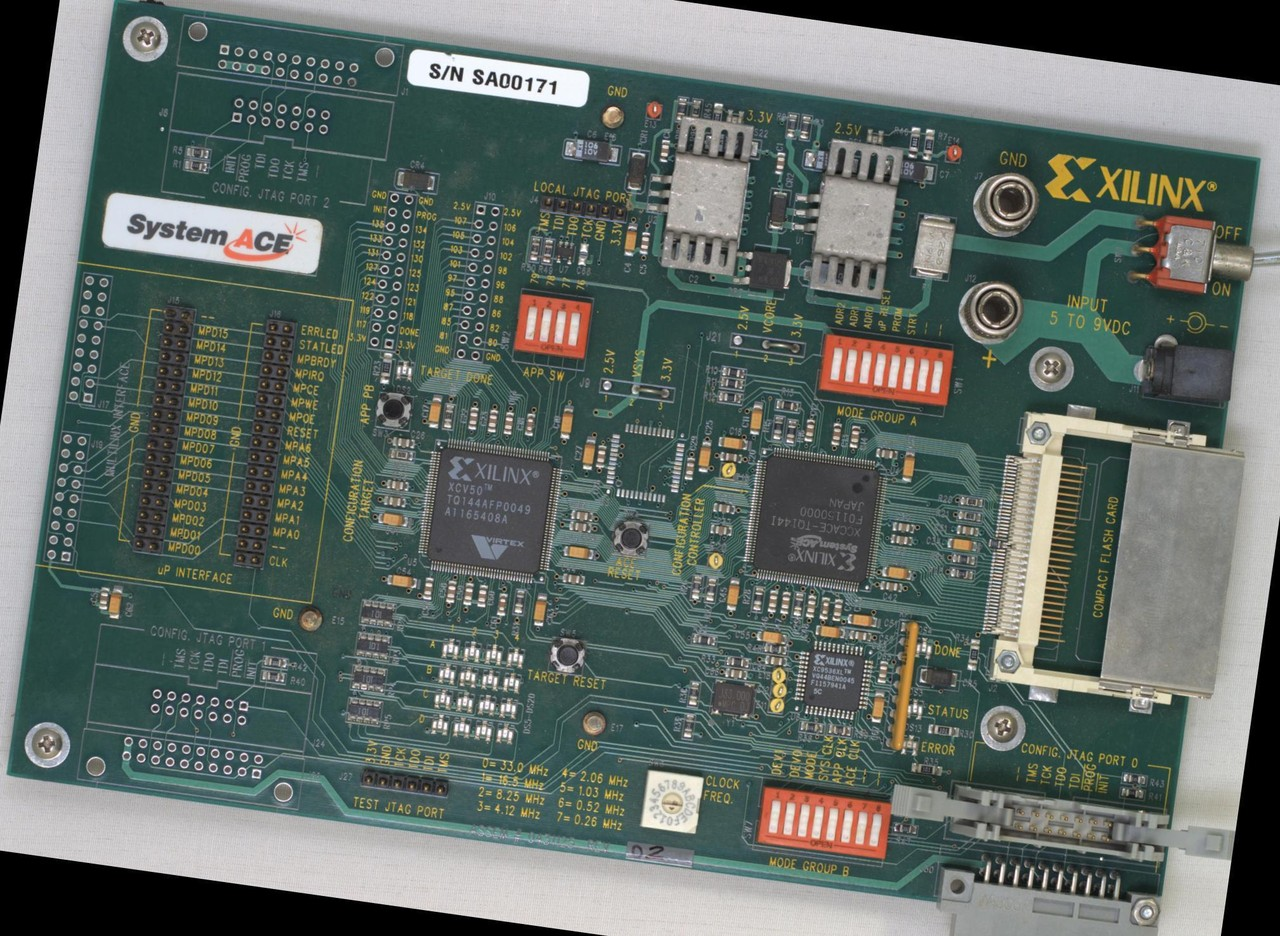Capacitor: (796, 258, 872, 295), (656, 239, 726, 274), (800, 147, 858, 177), (563, 136, 620, 163), (881, 157, 937, 184), (390, 166, 439, 195), (703, 131, 759, 156), (622, 145, 650, 194), (917, 665, 959, 690), (768, 191, 788, 231), (531, 591, 548, 627), (427, 393, 443, 429), (749, 401, 764, 438), (581, 434, 596, 471), (900, 448, 916, 482), (697, 438, 712, 474), (558, 404, 573, 439), (622, 222, 637, 257), (107, 587, 123, 619), (386, 573, 417, 589), (376, 512, 408, 527), (562, 545, 594, 560), (724, 579, 739, 611), (717, 436, 748, 451), (881, 565, 912, 580), (756, 629, 786, 644), (870, 691, 884, 723), (946, 537, 977, 551), (846, 613, 877, 627), (814, 625, 844, 639), (889, 532, 913, 546), (390, 436, 415, 449), (890, 520, 915, 533), (874, 447, 898, 460), (466, 407, 479, 431), (709, 523, 733, 536), (568, 520, 592, 533), (444, 579, 457, 603), (803, 417, 815, 442), (523, 411, 535, 436), (486, 408, 498, 433), (502, 410, 514, 435), (594, 443, 606, 468), (683, 455, 695, 480), (779, 590, 791, 615), (422, 575, 434, 600), (495, 592, 507, 617), (719, 450, 742, 463), (385, 478, 408, 491), (804, 594, 817, 617), (764, 654, 787, 667), (848, 424, 860, 448), (829, 422, 841, 446), (955, 524, 979, 536), (712, 502, 736, 514), (570, 509, 594, 521), (879, 580, 903, 592), (766, 588, 778, 612), (831, 598, 843, 622), (818, 596, 830, 620), (561, 572, 585, 584), (848, 629, 872, 641), (476, 584, 488, 608), (876, 659, 888, 683), (723, 667, 747, 679), (98, 586, 110, 610), (774, 151, 786, 175), (658, 139, 670, 163), (638, 231, 650, 255), (383, 495, 406, 507), (462, 582, 473, 605)
Connector: (976, 391, 1259, 722), (886, 772, 1237, 876), (929, 843, 1168, 935), (129, 304, 196, 554), (230, 319, 297, 569), (368, 191, 415, 350), (454, 203, 501, 361), (1137, 337, 1237, 411), (214, 43, 361, 89), (117, 736, 263, 781), (966, 165, 1043, 241), (952, 274, 1027, 349), (66, 274, 109, 404), (44, 433, 87, 562), (225, 92, 333, 137), (147, 686, 251, 726), (359, 768, 450, 798), (538, 194, 628, 224), (756, 335, 806, 357), (628, 381, 674, 402)
IC: (414, 435, 564, 587), (740, 445, 888, 595), (790, 171, 912, 267), (644, 149, 758, 244), (604, 420, 688, 504), (791, 638, 874, 722), (908, 211, 957, 283), (710, 678, 755, 719), (554, 240, 574, 264), (725, 107, 744, 124)
Resistor: (359, 599, 396, 628), (354, 632, 390, 660), (350, 664, 386, 692), (345, 697, 381, 725), (378, 351, 393, 385), (966, 638, 980, 671), (926, 723, 959, 737), (909, 762, 942, 776), (907, 126, 921, 159), (921, 128, 935, 161), (799, 721, 827, 735), (720, 366, 745, 380), (751, 586, 764, 612), (717, 391, 742, 404), (762, 642, 787, 655), (892, 822, 917, 835), (185, 146, 210, 159), (719, 376, 743, 389), (771, 415, 783, 441), (784, 419, 796, 445), (957, 509, 981, 522), (725, 656, 749, 669), (827, 724, 851, 737), (262, 655, 286, 668), (260, 670, 284, 683), (958, 496, 983, 508), (950, 553, 975, 565), (691, 634, 716, 646), (785, 113, 797, 138), (183, 160, 208, 172), (390, 449, 413, 462), (773, 399, 797, 411), (1122, 773, 1146, 785), (1119, 787, 1143, 799), (675, 97, 687, 121), (950, 566, 973, 578), (443, 404, 454, 429), (792, 591, 803, 616), (683, 713, 694, 738), (705, 577, 716, 601), (691, 575, 702, 599), (513, 589, 524, 613), (688, 681, 699, 705), (799, 115, 810, 139), (529, 237, 540, 261), (542, 238, 553, 262), (710, 102, 723, 121), (690, 100, 700, 117), (987, 538, 1001, 548)
Switch: (1123, 208, 1279, 307), (816, 331, 955, 408), (753, 784, 893, 860), (512, 293, 592, 361), (545, 634, 587, 676), (373, 390, 415, 431), (610, 519, 650, 559)
Transistor/Diode: (731, 247, 793, 291), (462, 639, 483, 662), (436, 662, 457, 685), (479, 668, 500, 691), (472, 719, 493, 742), (429, 713, 450, 736), (451, 716, 472, 739), (394, 358, 414, 382), (500, 671, 521, 693), (440, 637, 460, 660), (483, 643, 503, 666), (505, 646, 525, 669), (458, 665, 478, 688), (455, 690, 475, 713), (476, 693, 496, 716), (433, 688, 453, 711), (497, 697, 517, 719), (495, 723, 515, 745), (914, 636, 933, 659), (906, 698, 924, 721), (901, 734, 919, 756), (865, 129, 884, 147)
